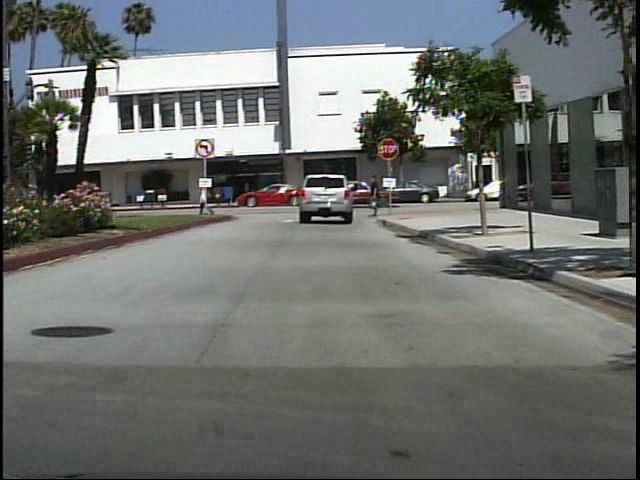person: (191, 177, 221, 218), (366, 174, 389, 219), (248, 178, 249, 203)
